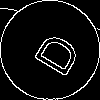D: (25, 25, 82, 79)
